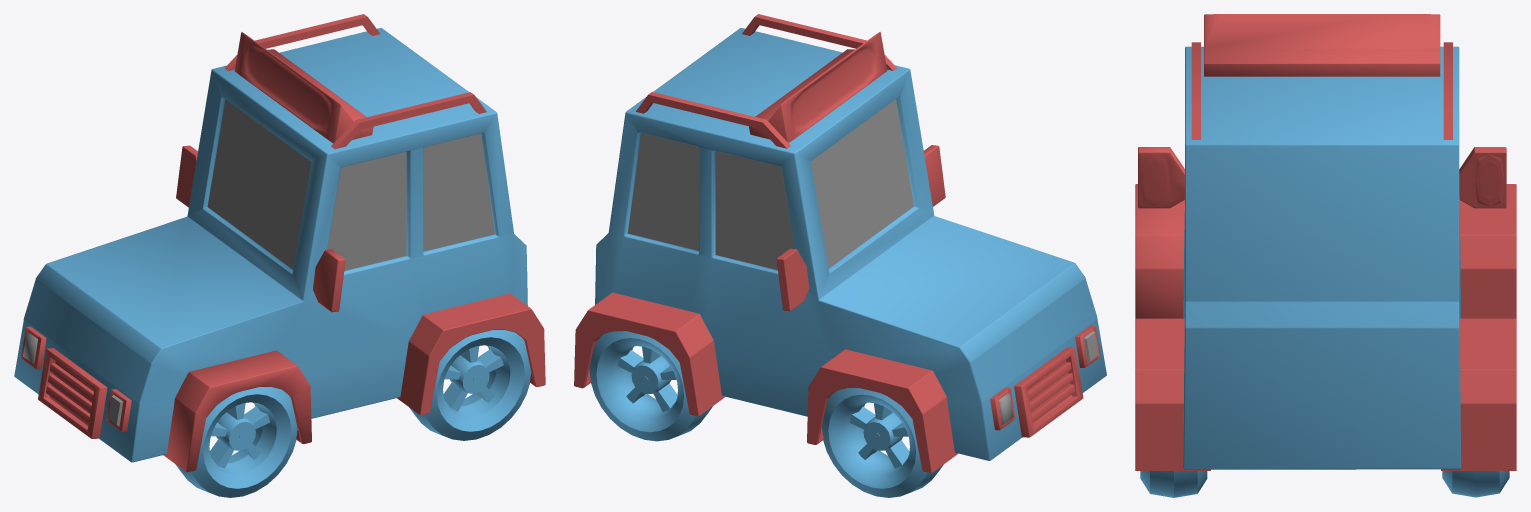
Rendered from che1.FBX.
3 views of the same model, side by side, from view 1: azimuth 30°, elevation 25°; view 2: azimuth 150°, elevation 25°; view 3: azimuth 270°, elevation 25° (orthographic). The views are drawn at different scales.
Visible parts, largest first — view 1: y351, y550, y509, y512, y353, y357, y508, y354, y355, y545, light027; view 2: y351, y550, y509, y512, y353, y357, y508, y355, y354, y545, light027; view 3: y351, y512, y353, y508, y509, y354, y355.
Part boxes in pixels (x1,y1,x2,y2): y351: (14, 28, 527, 462); y550: (207, 99, 494, 270); y509: (175, 330, 531, 497); y512: (163, 293, 545, 472); y353: (234, 32, 373, 143); y357: (38, 348, 107, 438); y508: (176, 145, 345, 312); y354: (331, 92, 486, 148); y355: (224, 14, 379, 71); y545: (21, 326, 131, 431); light027: (23, 332, 123, 426); y351: (595, 28, 1106, 460); y550: (627, 99, 913, 269); y509: (589, 331, 943, 497); y512: (574, 292, 957, 472); y353: (749, 32, 887, 142); y357: (1014, 347, 1083, 437); y508: (776, 145, 945, 311); y355: (635, 92, 790, 148); y354: (742, 14, 896, 70); y545: (990, 325, 1100, 430); light027: (998, 331, 1098, 424); y351: (1183, 46, 1461, 469); y512: (1135, 184, 1516, 470); y353: (1204, 14, 1440, 76); y508: (1138, 147, 1506, 208); y509: (1140, 471, 1509, 497); y354: (1191, 42, 1200, 139); y355: (1443, 42, 1452, 139).
Size of the model in its own units: 2.35 by 1.93 by 1.62.
